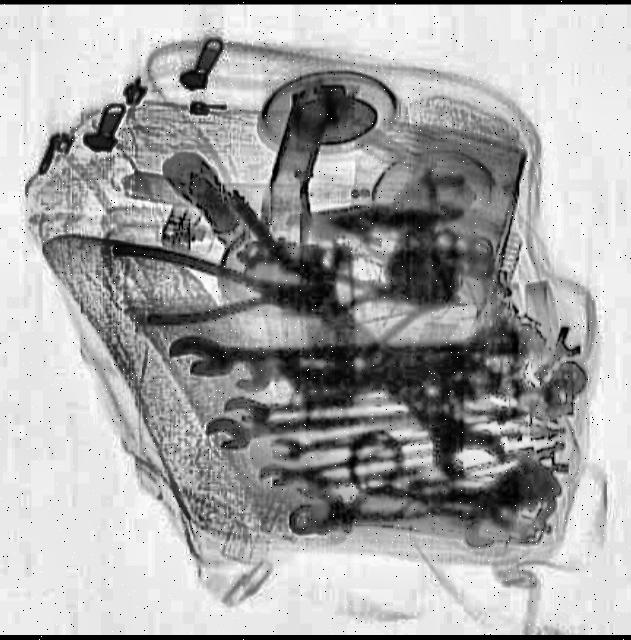Pliers: (107, 244, 310, 339)
Wrench: (292, 275, 509, 508), (284, 462, 562, 557), (167, 332, 338, 383), (203, 410, 394, 455), (220, 388, 397, 431), (257, 458, 340, 492), (267, 436, 358, 466)
